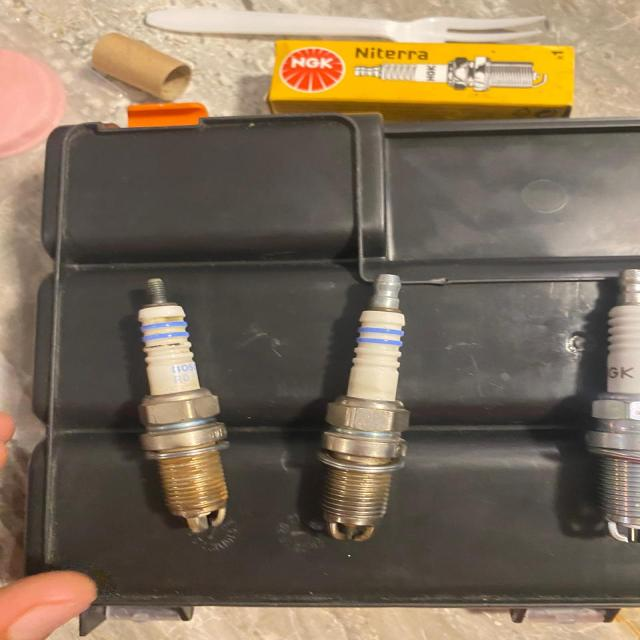spark-plug: (303, 261, 429, 544), (130, 268, 236, 538)
